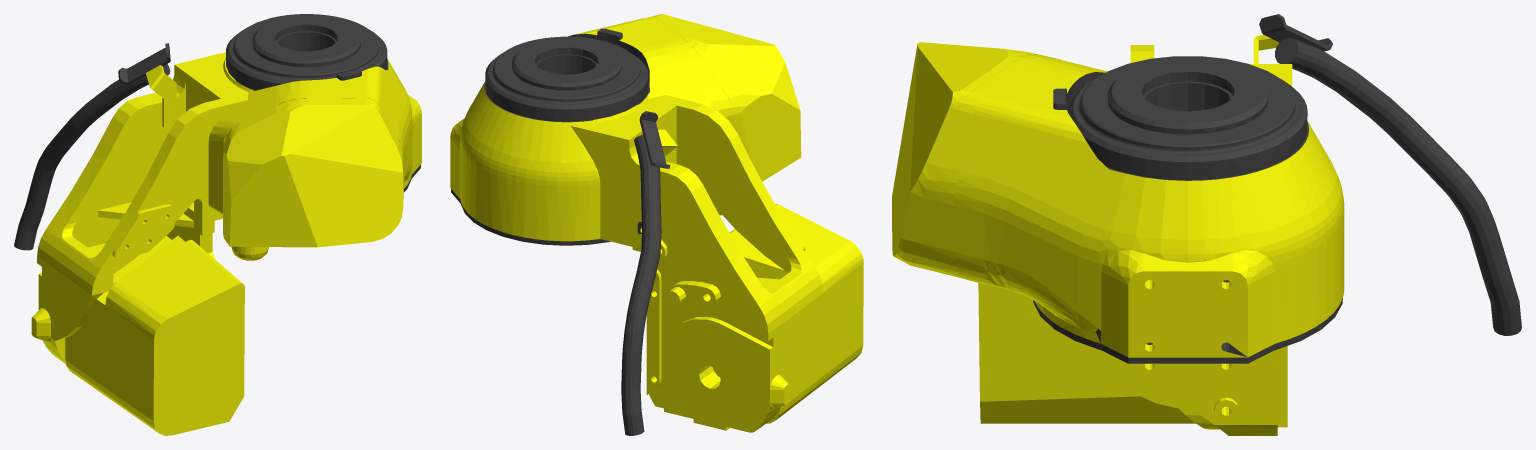
3 views of the same model, side by side, from view 1: azimuth 30°, elevation 25°; view 2: azimuth 150°, elevation 25°; view 3: azimuth 270°, elevation 25° (orthographic). The views are drawn at different scales.
Parts seen in each view (by area): view 1: node; view 2: node; view 3: node.
Part boxes in pixels (<box>): node: <box>14,14,421,435</box>; node: <box>450,14,863,435</box>; node: <box>892,14,1521,435</box>.
Size of the model in its own units: 379 by 319 by 411.
